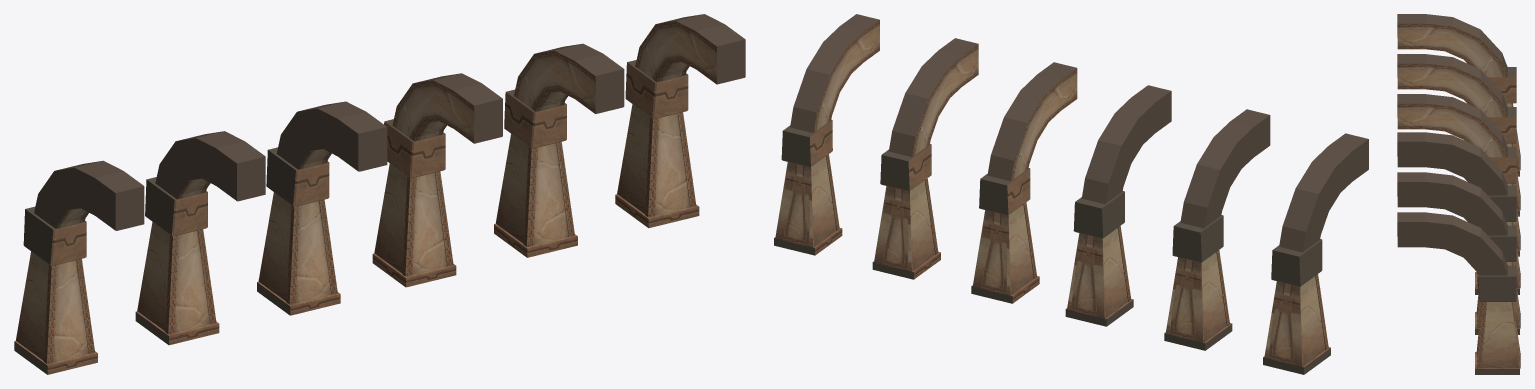
File: Big_colums_01.glb
The picture shows the model from 3 angles, left to right: view 1: azimuth 30°, elevation 25°; view 2: azimuth 150°, elevation 25°; view 3: azimuth 270°, elevation 25°; orthographic projection. The views are drawn at different scales.
Visible parts, largest first — view 1: Big_colums_01; view 2: Big_colums_01; view 3: Big_colums_01.
Boxes of the visible parts, x1,y1,x2,y2 form: Big_colums_01: [14, 14, 745, 374]; Big_colums_01: [774, 14, 1368, 374]; Big_colums_01: [1397, 14, 1520, 374].
Bounding box in the file's own units: 141 × 45.76 × 34.13.
Materials: 1 (1 with a texture image).
